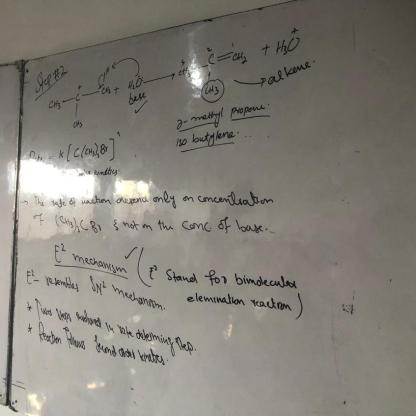Handwritten text: (28, 294, 203, 360), (27, 320, 173, 379), (33, 188, 275, 210), (162, 266, 298, 289), (122, 217, 269, 238), (172, 291, 295, 313), (106, 281, 171, 316), (260, 50, 315, 91), (67, 250, 132, 278), (191, 103, 269, 124), (42, 271, 82, 295), (30, 68, 57, 96), (190, 130, 237, 146), (120, 89, 155, 109), (93, 165, 121, 179), (26, 211, 49, 226)
